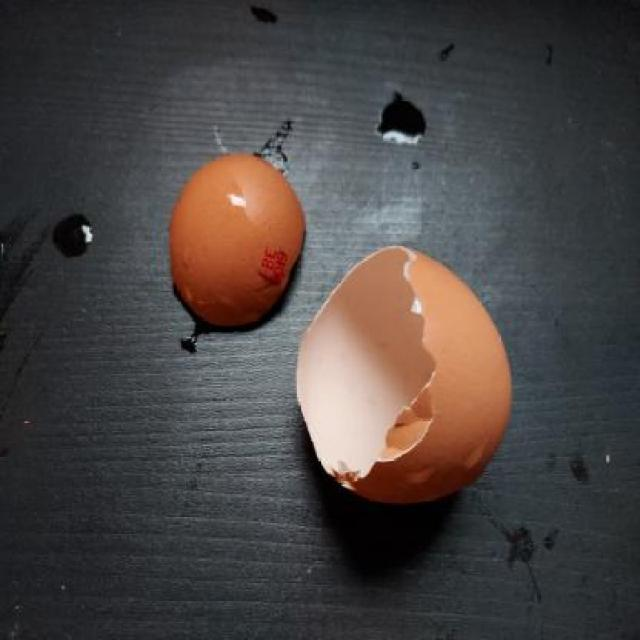biodegradable: (292, 243, 514, 509), (164, 150, 306, 336)
